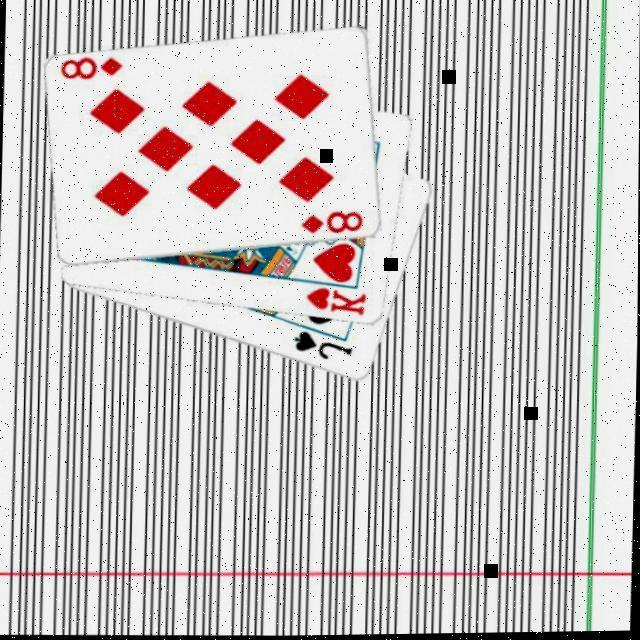8D: (300, 208, 368, 238), (60, 54, 127, 84)
JS: (292, 328, 358, 366)
KH: (304, 286, 371, 322)
